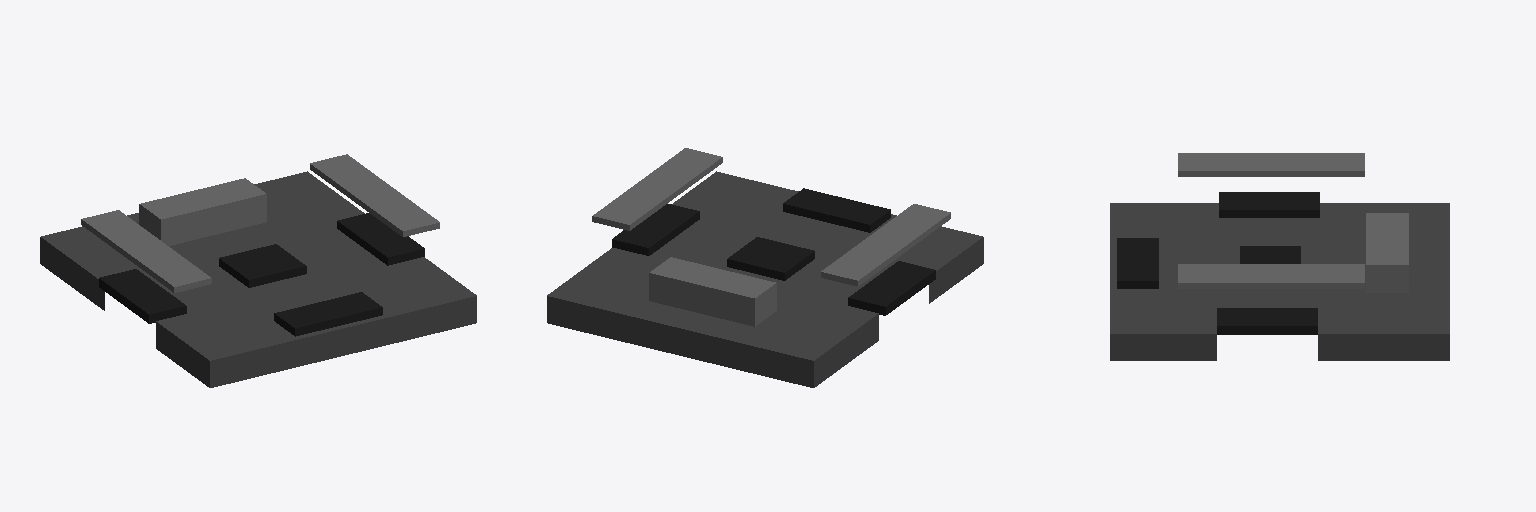
File: Ground Objects Export for Testing.obj
The picture shows the model from 3 angles: view 1: azimuth 30°, elevation 25°; view 2: azimuth 150°, elevation 25°; view 3: azimuth 270°, elevation 25°; orthographic projection.
Parts seen in each view (by area): view 1: Ground Objects Export for Testing; view 2: Ground Objects Export for Testing; view 3: Ground Objects Export for Testing.
Part boxes in pixels (x1,y1,x2,y2): Ground Objects Export for Testing: (40, 154, 476, 387); Ground Objects Export for Testing: (547, 148, 983, 387); Ground Objects Export for Testing: (1110, 153, 1449, 360).
Size of the model in its own units: 94.91 by 25.33 by 102.